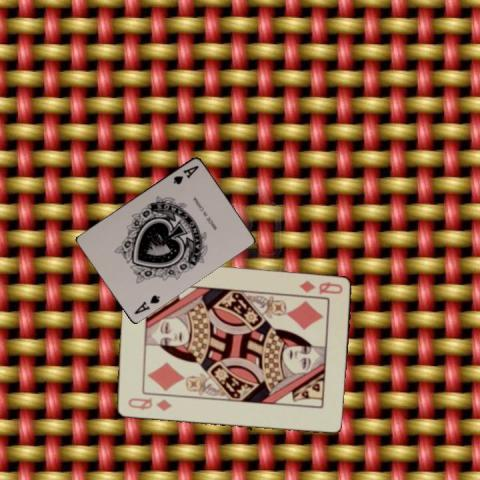As: (170, 162, 200, 186), (132, 292, 162, 316)
Qd: (296, 277, 344, 295), (125, 395, 174, 412)
